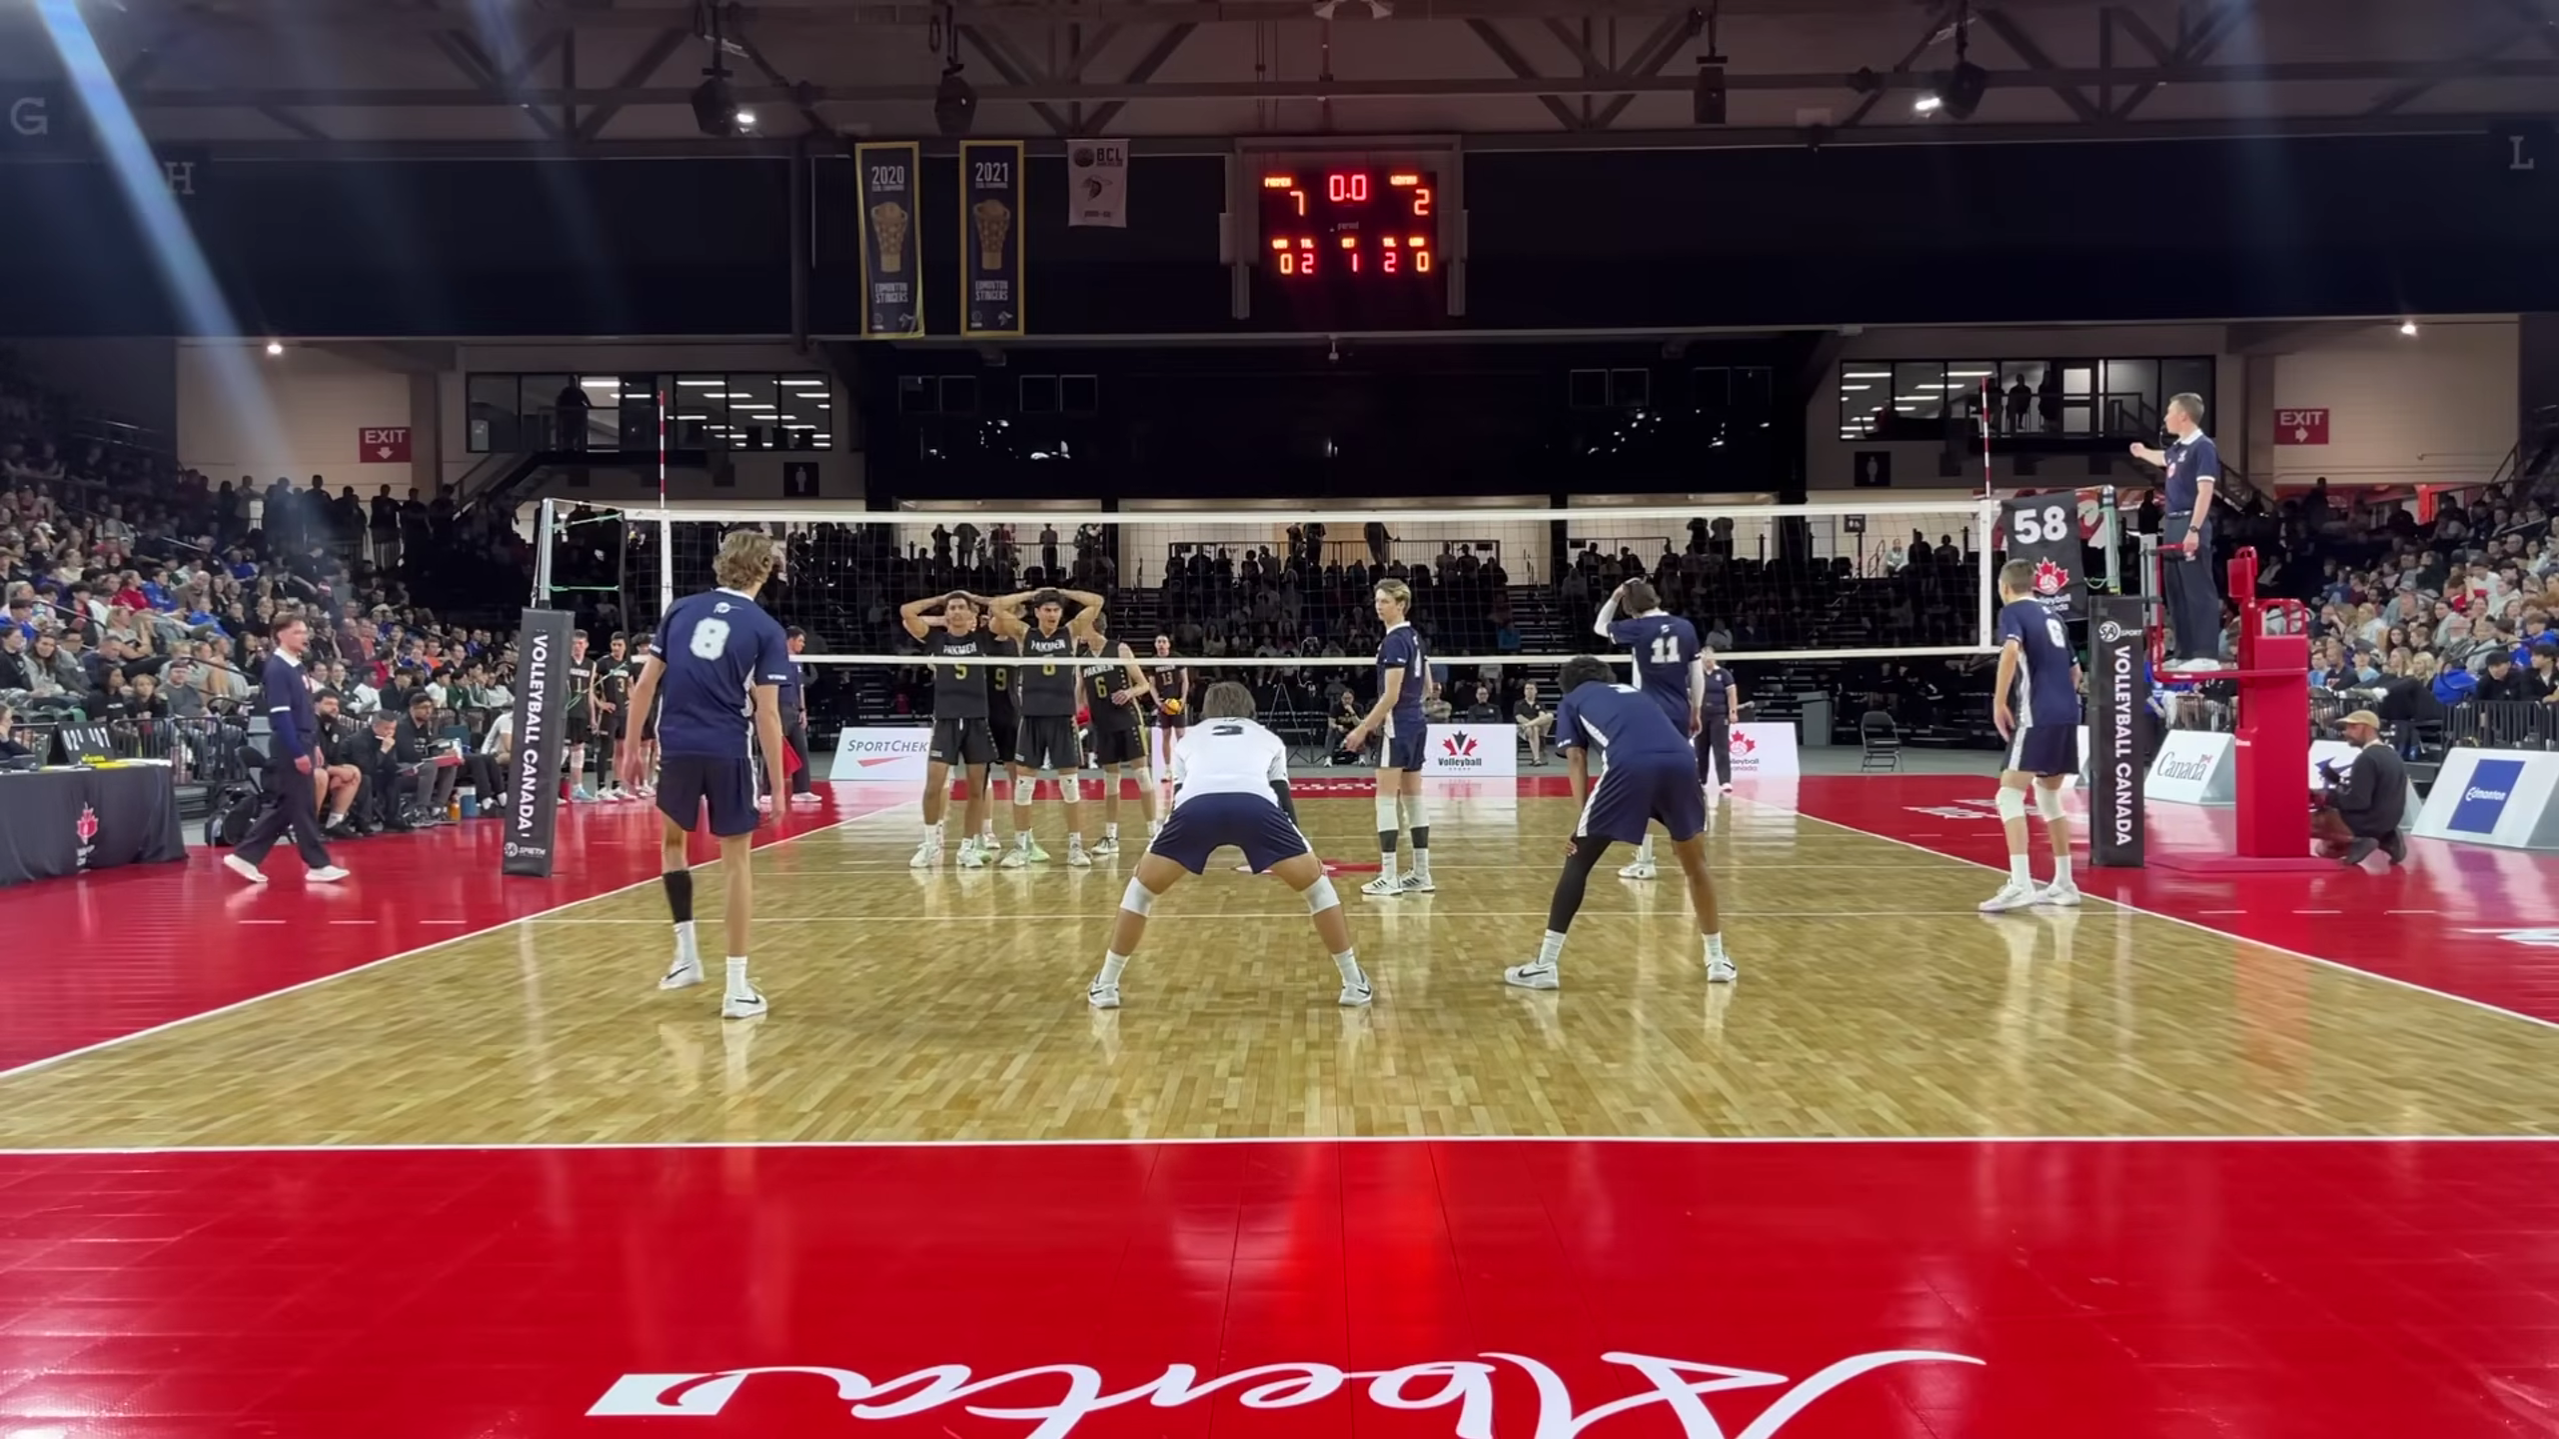Ball: (1162, 698, 1181, 717)
